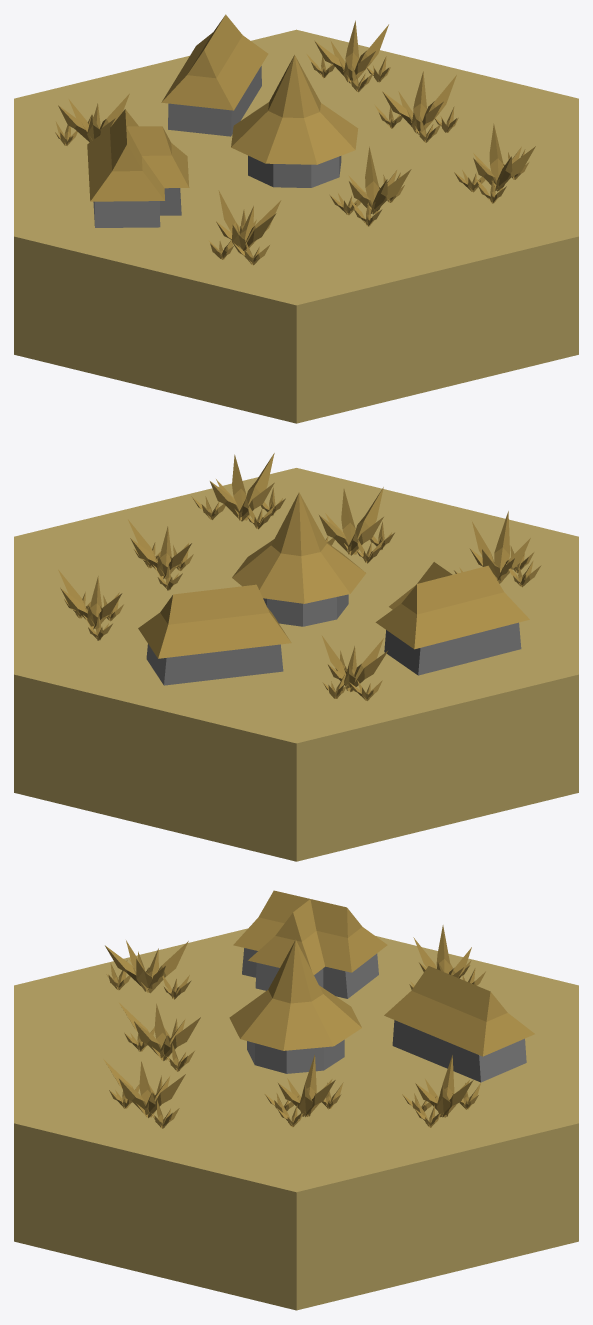
Rendered from Casas_Arido_3.fbx.
3 renders of one model, top to bottom at view 1: azimuth 30°, elevation 25°; view 2: azimuth 150°, elevation 25°; view 3: azimuth 270°, elevation 25°, orthographic.
Visible parts, largest first — view 1: Casas_Arido_3; view 2: Casas_Arido_3; view 3: Casas_Arido_3.
Part boxes in pixels (bbox=[...]): Casas_Arido_3: bbox=[14, 14, 578, 423]; Casas_Arido_3: bbox=[14, 453, 578, 861]; Casas_Arido_3: bbox=[14, 890, 578, 1310].
Size of the model in its own units: 200 by 78.5 by 173.
